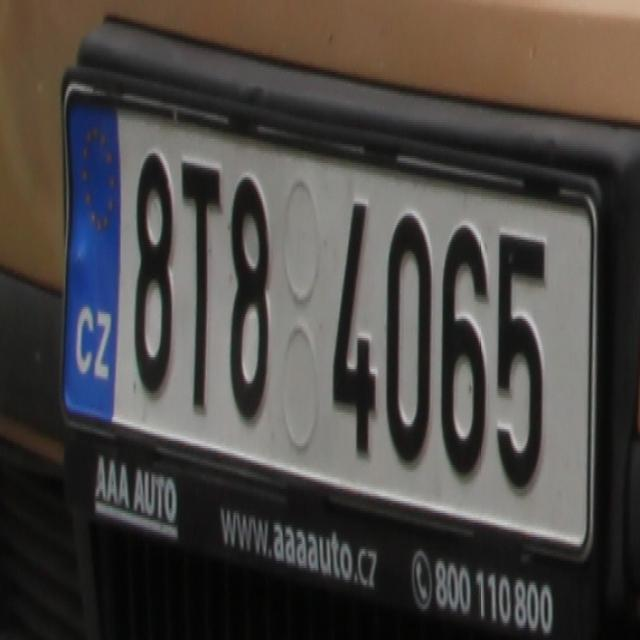0: (384, 213, 432, 465)
4: (326, 192, 377, 458)
5: (491, 223, 548, 489)
6: (438, 218, 486, 472)
8: (131, 148, 178, 396), (226, 173, 271, 417)
T: (176, 151, 222, 412)
